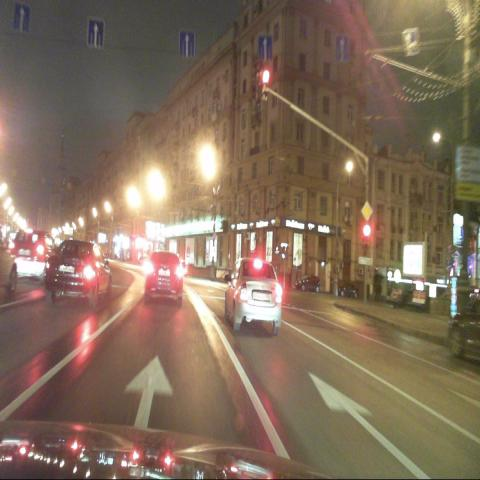5_15_2: (402, 28, 418, 54)
